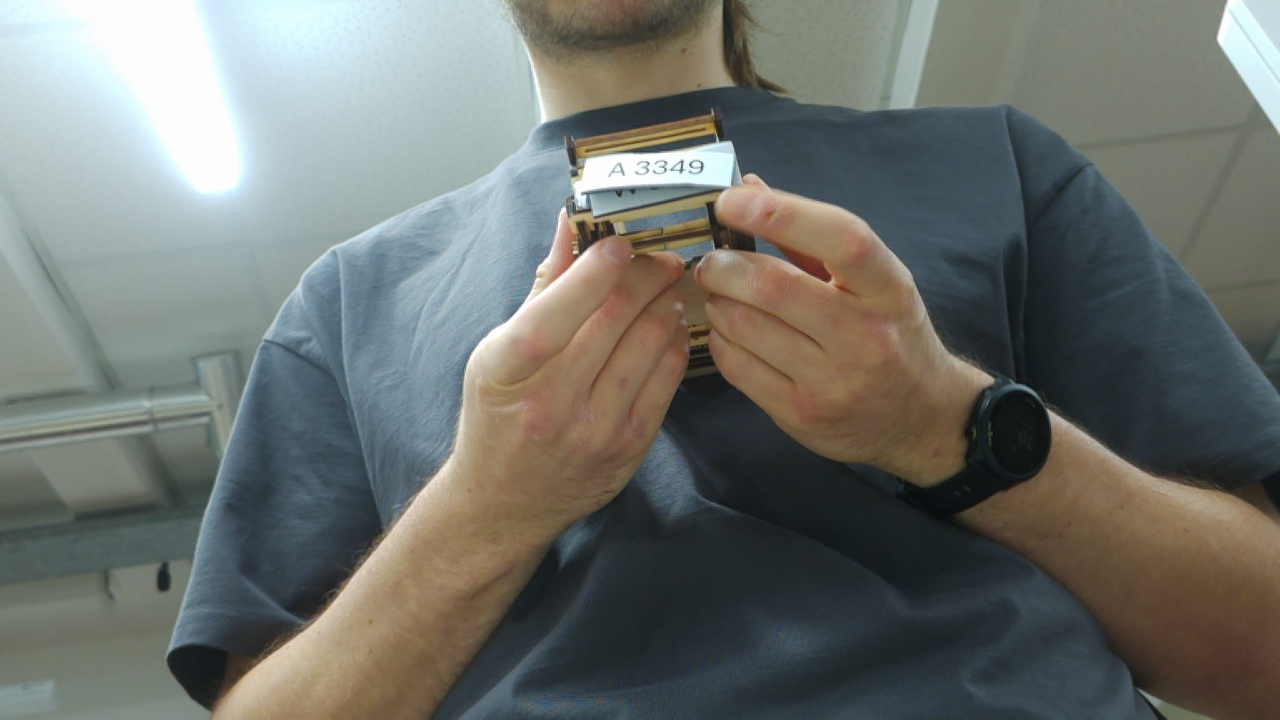license_plate: (570, 151, 746, 198)
